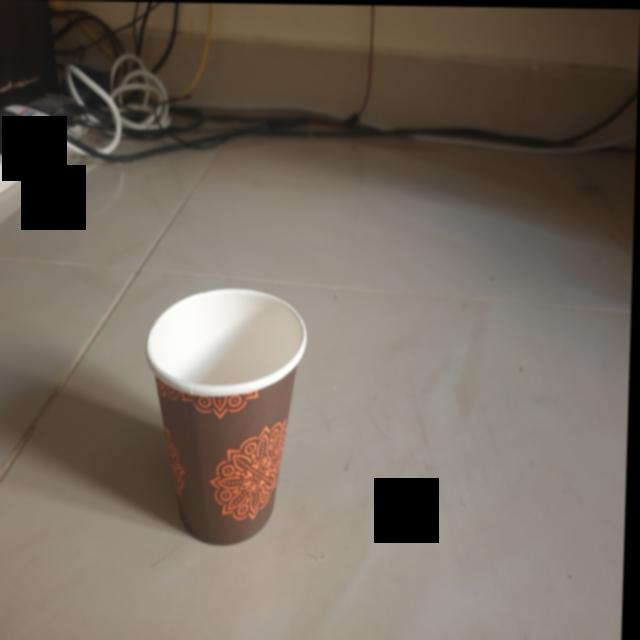cups: (140, 277, 312, 552)
